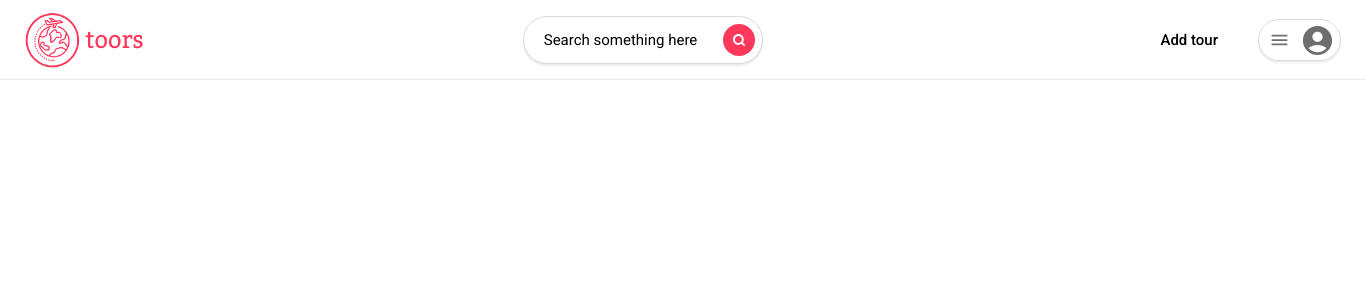
Test case: NAVBAR › should NOT show Login and Signup links when user is logged in
Click the button named "menu button" next to "Add tour".
click(1300, 40)  # box x1=1258 y1=19 x2=1341 y2=61
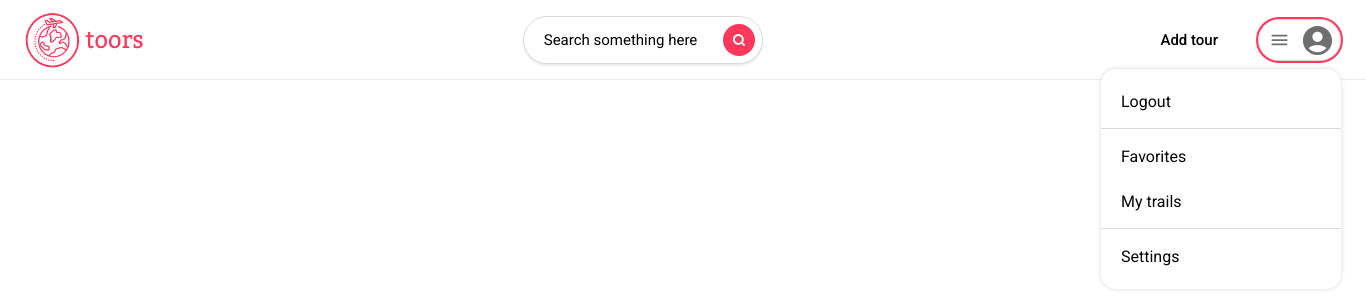
Check: the link "Favorites" is shown, box x1=1121 y1=147 x2=1186 y2=166
Check: the link "My trails" is shown, box x1=1121 y1=192 x2=1182 y2=211
Check: the link "Settings" is shown, box x1=1121 y1=247 x2=1179 y2=266
